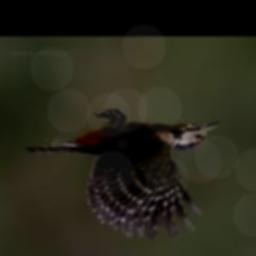Woodpecker: (27, 110, 226, 238)
